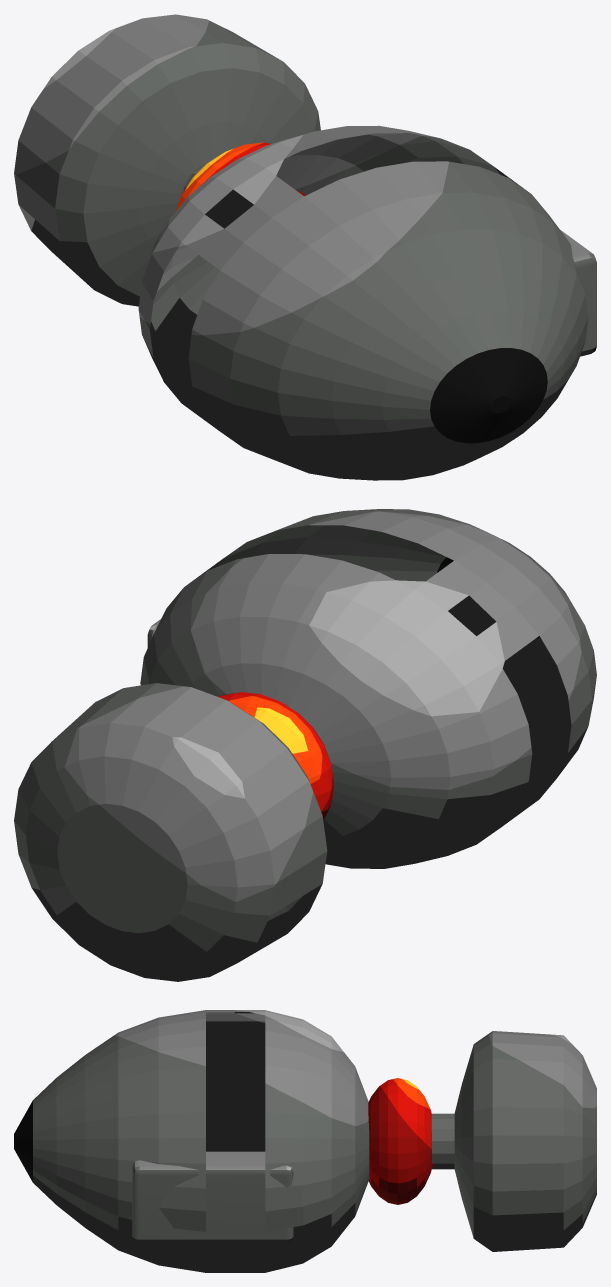
File: ice_drill_arm.glb
The picture shows the model from 3 angles, top to bottom: view 1: azimuth 30°, elevation 25°; view 2: azimuth 150°, elevation 25°; view 3: azimuth 270°, elevation 25°; orthographic projection. The views are drawn at different scales.
Visible parts, largest first — view 1: ice_drill_arm; view 2: ice_drill_arm; view 3: ice_drill_arm.
Boxes of the visible parts, <box> form: ice_drill_arm: <box>14,14,596,480</box>; ice_drill_arm: <box>14,509,596,981</box>; ice_drill_arm: <box>14,1010,596,1272</box>.
Size of the model in its own units: 14 by 10.36 by 24.6.
